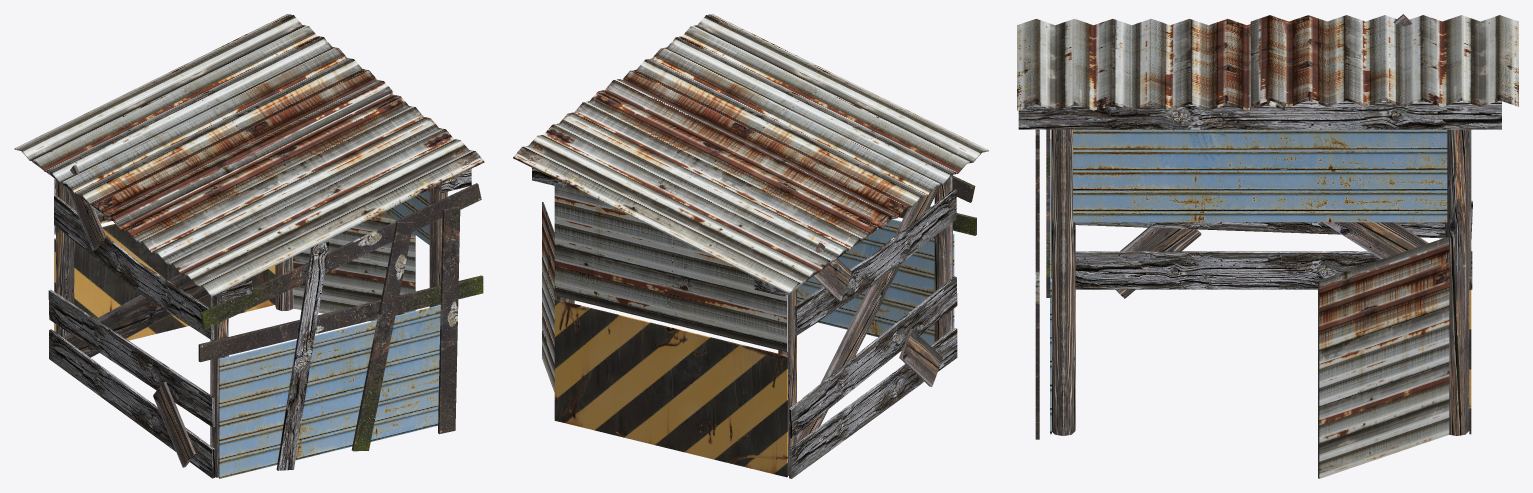
Rendered from shack_04.fbx.
The picture shows the model from 3 angles, left to right: view 1: azimuth 30°, elevation 25°; view 2: azimuth 150°, elevation 25°; view 3: azimuth 270°, elevation 25°; orthographic projection. The views are drawn at different scales.
Visible parts, largest first — view 1: shack_04; view 2: shack_04; view 3: shack_04.
Boxes of the visible parts, x1=… form: shack_04: x1=14, y1=14, x2=484, y2=478; shack_04: x1=513, y1=14, x2=988, y2=478; shack_04: x1=1017, y1=14, x2=1518, y2=478.
Size of the model in its own units: 4.04 by 3.36 by 4.25.
